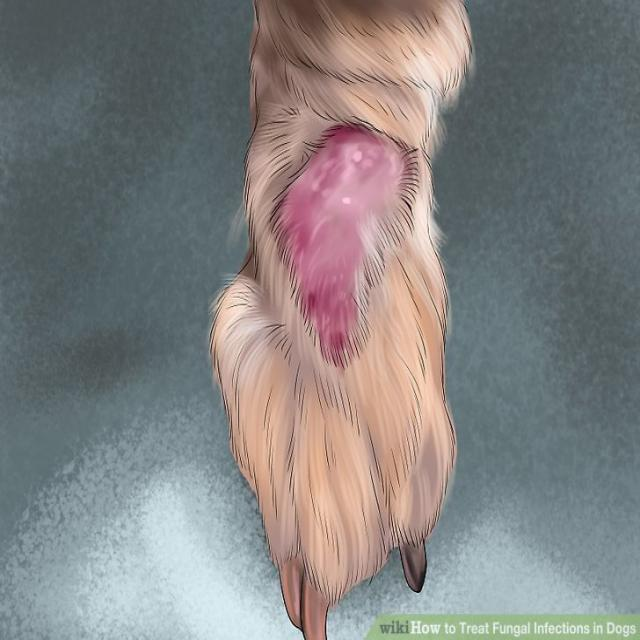fungal infection: (274, 126, 403, 370)
